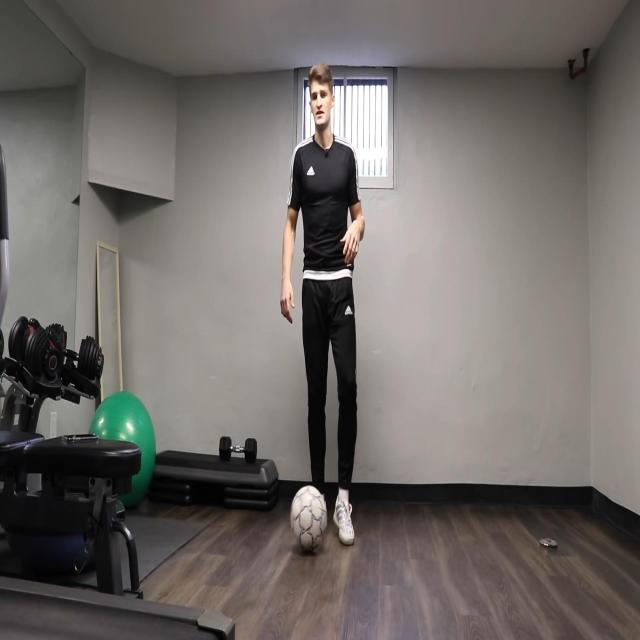Soccer Ball: (290, 485, 328, 552)
